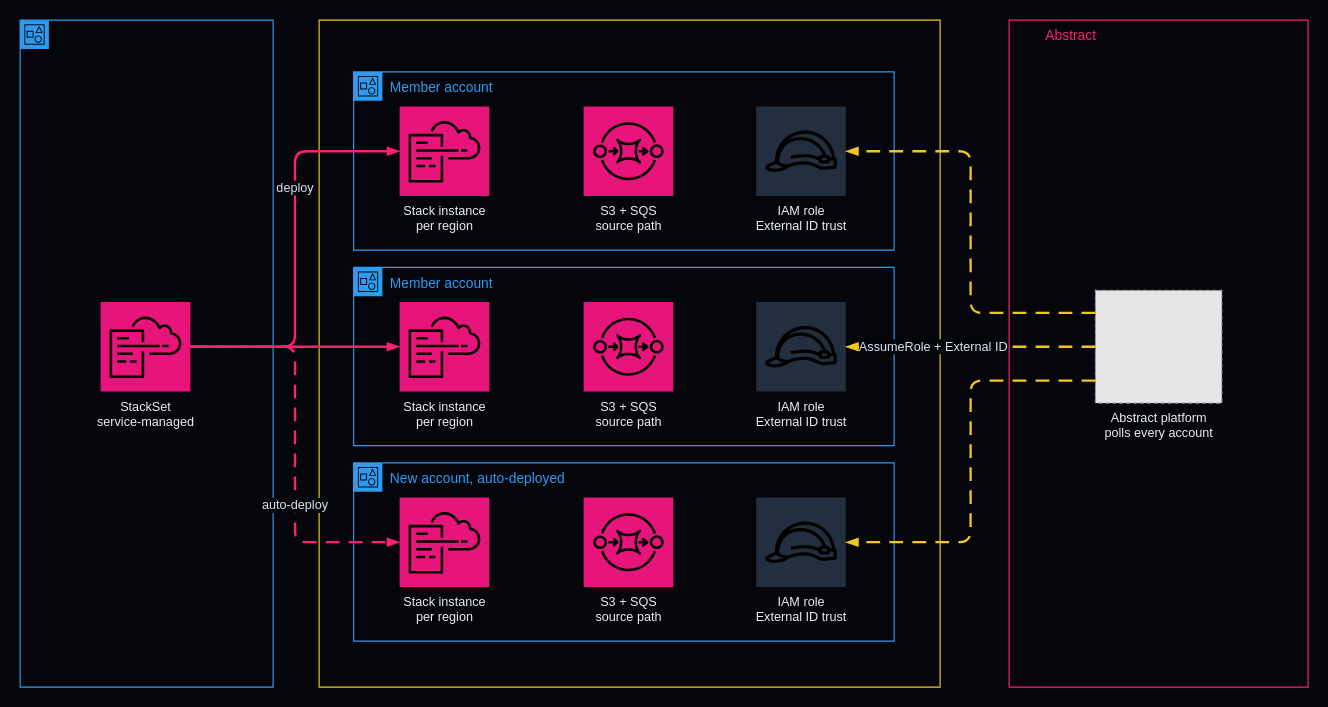
This 1328x707 diagram has some shape labels left out. Grey dashed boxes stand in for pictures. Here are the shapes that lost their labels. From the top down, the box of each, then its label:
(19, 19, 273, 687): Management account
(318, 19, 940, 687): Target OU, listed regions
